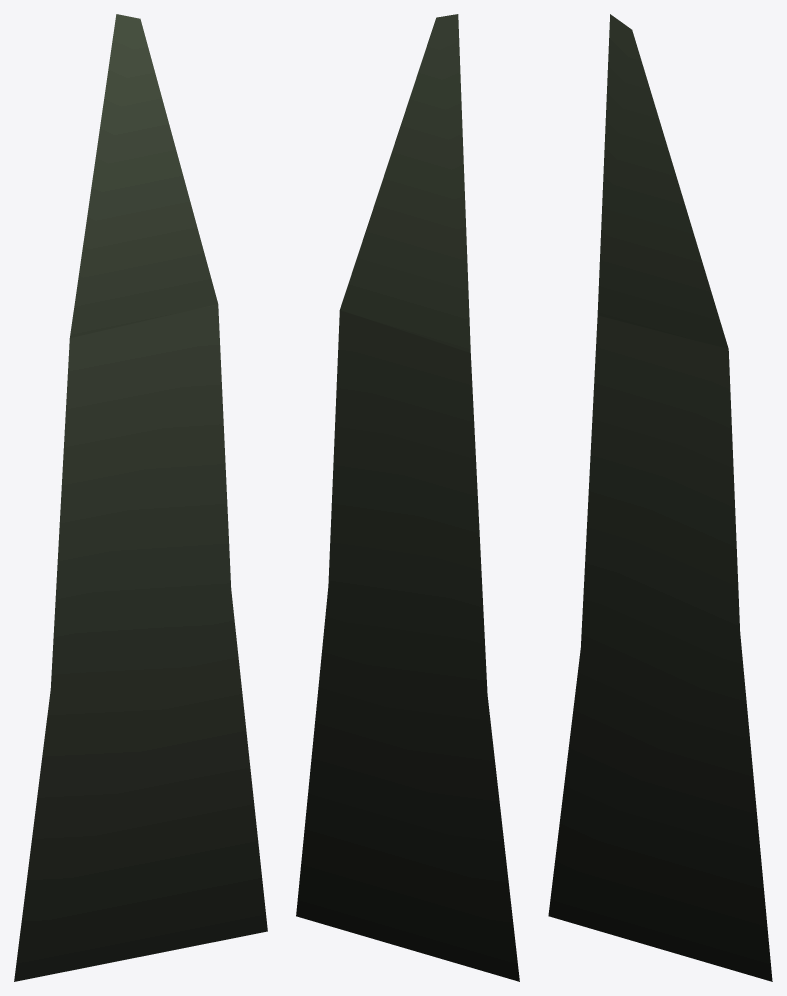
Rendered from GrassSingle2.glb.
The picture shows the model from 3 angles, left to right: view 1: azimuth 30°, elevation 25°; view 2: azimuth 150°, elevation 25°; view 3: azimuth 330°, elevation 25°; orthographic projection. The views are drawn at different scales.
Parts seen in each view (by area): view 1: GrassSingle2; view 2: GrassSingle2; view 3: GrassSingle2.
Boxes of the visible parts, x1,y1,x2,y2 form: GrassSingle2: (14,14,267,981); GrassSingle2: (296,14,519,981); GrassSingle2: (548,14,772,981).
Size of the model in its own units: 0.102 by 0.3874 by 0.0147.
Materials: 1 (1 with a texture image).
